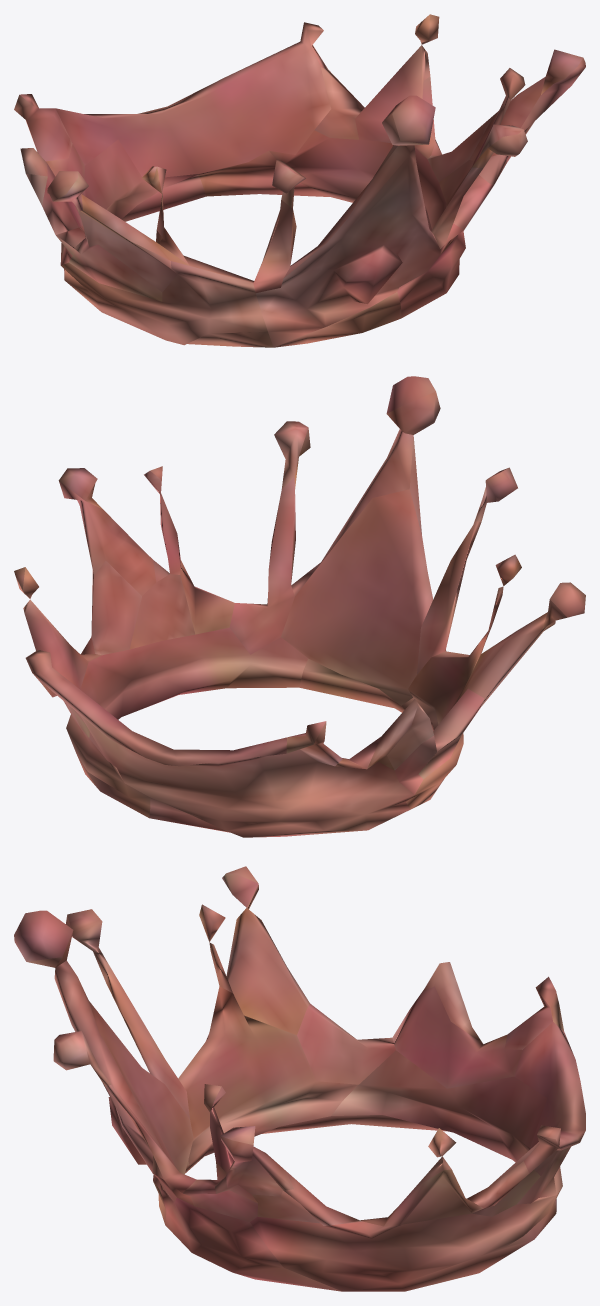
The picture shows the model from 3 angles, top to bottom: view 1: azimuth 30°, elevation 25°; view 2: azimuth 150°, elevation 25°; view 3: azimuth 270°, elevation 25°; orthographic projection. The views are drawn at different scales.
Parts seen in each view (by area): view 1: Pink-Crown-18; view 2: Pink-Crown-18; view 3: Pink-Crown-18.
Part boxes in pixels (x1=…): Pink-Crown-18: x1=14, y1=14, x2=585, y2=347; Pink-Crown-18: x1=14, y1=376, x2=585, y2=837; Pink-Crown-18: x1=14, y1=866, x2=585, y2=1291.
Size of the model in its own units: 0.291 by 0.1477 by 0.257.
Materials: 1 (1 with a texture image).
